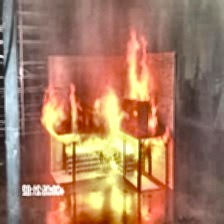fire: (40, 30, 180, 177)
